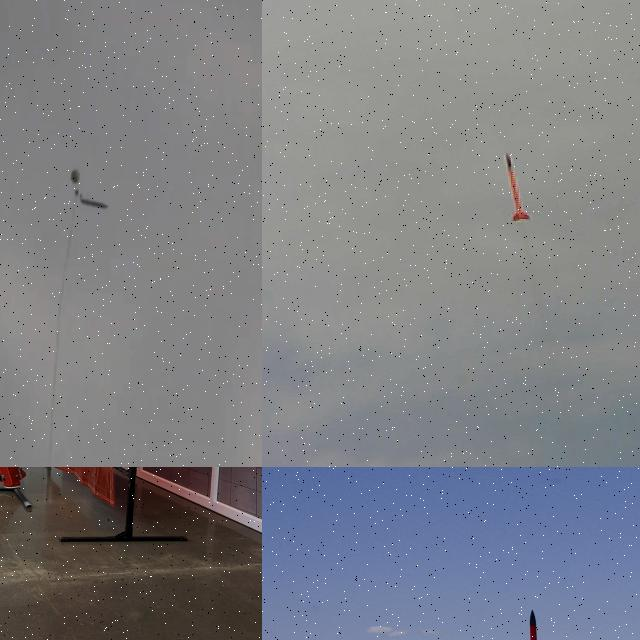Rocket: (505, 153, 532, 222), (526, 609, 546, 640)
